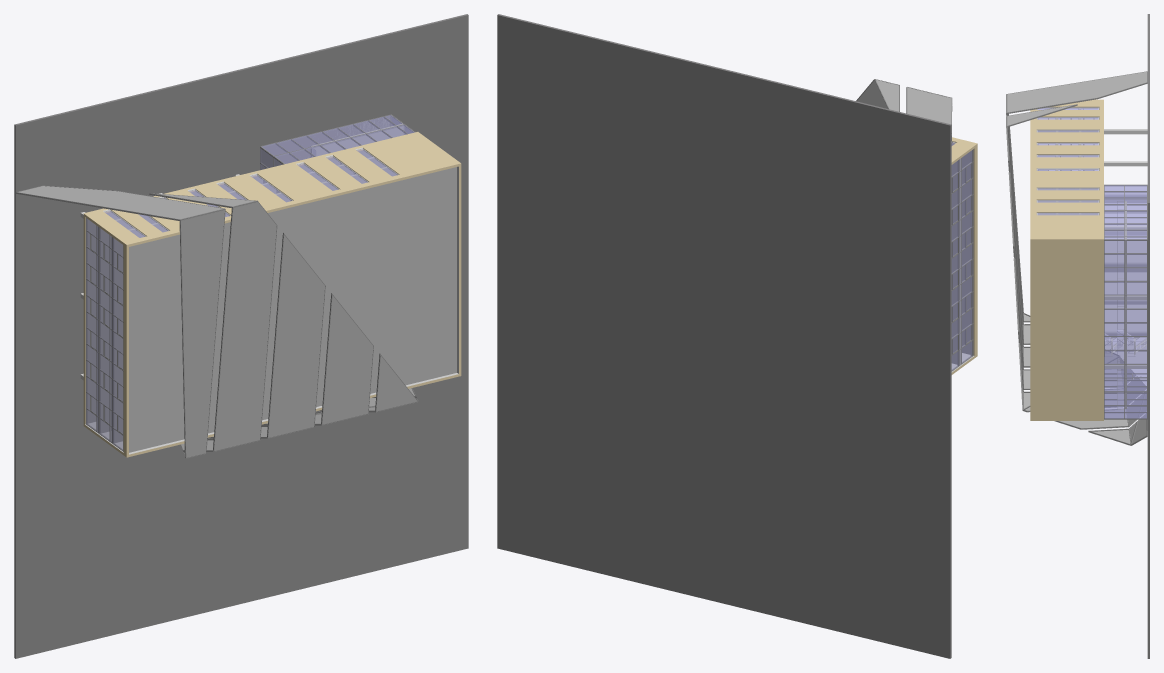
File: building.glb
3 views of the same model, side by side, from view 1: azimuth 30°, elevation 25°; view 2: azimuth 150°, elevation 25°; view 3: azimuth 270°, elevation 25° (orthographic). The views are drawn at different scales.
Parts seen in each view (by area): view 1: Pad 1, Generic 300mm, Perforated Metal Panel - MPK.002, Exterior Wall - Wood Panels.005, Perforated Metal Panel - MPK.001, Generic 300mm.004, Generic 300mm.005, Generic 300mm.003, Exterior Wall - Wood Panels.006, Exterior Wall - Wood Panels.007, Exterior Wall - Wood Panels.002, Generic 300mm.002; view 2: Pad 1, Perforated Metal Panel - MPK.001, Generic 300mm.005, Generic 300mm, Exterior Wall - Wood Panels.006; view 3: Exterior Wall - Wood Panels, Exterior Wall - Wood Panels.005, Perforated Metal Panel - MPK.001, Pad 1, Perforated Metal Panel - MPK.005, Glas - MPK, Exterior Wall - Wood Panels.002, Perforated Metal Panel - MPK.003, Exterior Wall - Wood Panels.007, Perforated Metal Panel - MPK.004, Generic 300mm.002, 500 x 500mm.002 (+38 smaller).
Boxes of the visible parts, bbox=[...] form: Pad 1: bbox=[14, 14, 468, 658]; Generic 300mm: bbox=[129, 167, 456, 452]; Perforated Metal Panel - MPK.002: bbox=[181, 202, 417, 457]; Exterior Wall - Wood Panels.005: bbox=[83, 132, 456, 245]; Perforated Metal Panel - MPK.001: bbox=[18, 186, 253, 219]; Generic 300mm.004: bbox=[98, 157, 385, 433]; Generic 300mm.005: bbox=[111, 167, 396, 442]; Generic 300mm.003: bbox=[87, 150, 371, 423]; Exterior Wall - Wood Panels.006: bbox=[123, 245, 128, 454]; Exterior Wall - Wood Panels.007: bbox=[125, 162, 458, 247]; Exterior Wall - Wood Panels.002: bbox=[457, 162, 461, 373]; Generic 300mm.002: bbox=[310, 124, 403, 157]; Pad 1: bbox=[497, 14, 951, 658]; Perforated Metal Panel - MPK.001: bbox=[876, 79, 951, 124]; Generic 300mm.005: bbox=[951, 158, 961, 364]; Generic 300mm: bbox=[951, 143, 970, 354]; Exterior Wall - Wood Panels.006: bbox=[973, 146, 977, 355]; Exterior Wall - Wood Panels: bbox=[1033, 238, 1103, 420]; Exterior Wall - Wood Panels.005: bbox=[1033, 99, 1103, 238]; Perforated Metal Panel - MPK.001: bbox=[1007, 71, 1146, 125]; Pad 1: bbox=[1147, 14, 1149, 658]; Perforated Metal Panel - MPK.005: bbox=[1025, 358, 1130, 443]; Glas - MPK: bbox=[1117, 201, 1125, 409]; Exterior Wall - Wood Panels.002: bbox=[1030, 238, 1033, 418]; Perforated Metal Panel - MPK.003: bbox=[1024, 314, 1117, 408]; Exterior Wall - Wood Panels.007: bbox=[1030, 110, 1033, 238]; Perforated Metal Panel - MPK.004: bbox=[1121, 360, 1144, 441]; Generic 300mm.002: bbox=[1125, 201, 1126, 408]; 500 x 500mm.002: bbox=[1038, 129, 1147, 134].
Bounding box in the file's own units: 192 × 217 × 61.91.
